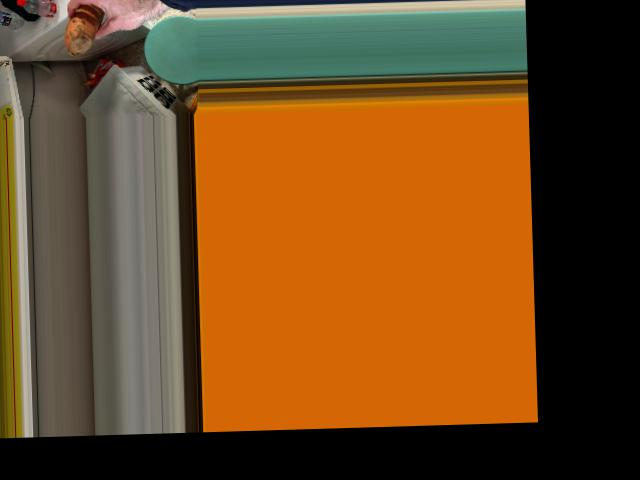sweet_potato: (63, 4, 104, 45)
